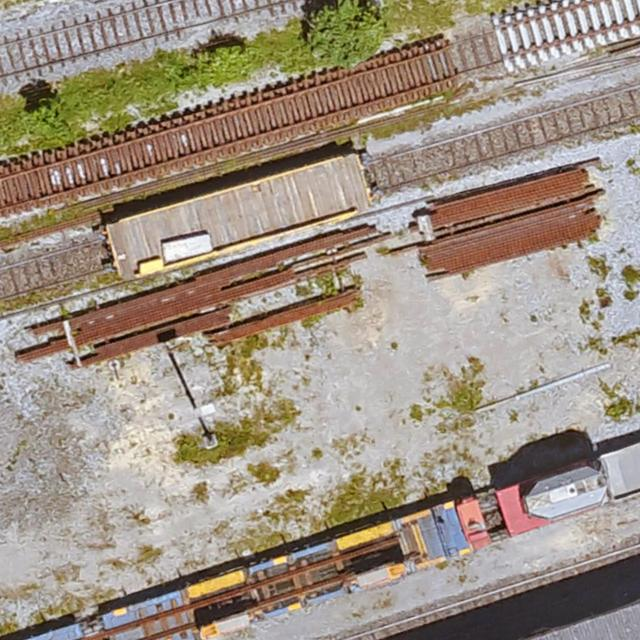tree: (308, 0, 390, 68), (187, 42, 255, 88), (19, 97, 61, 141)
